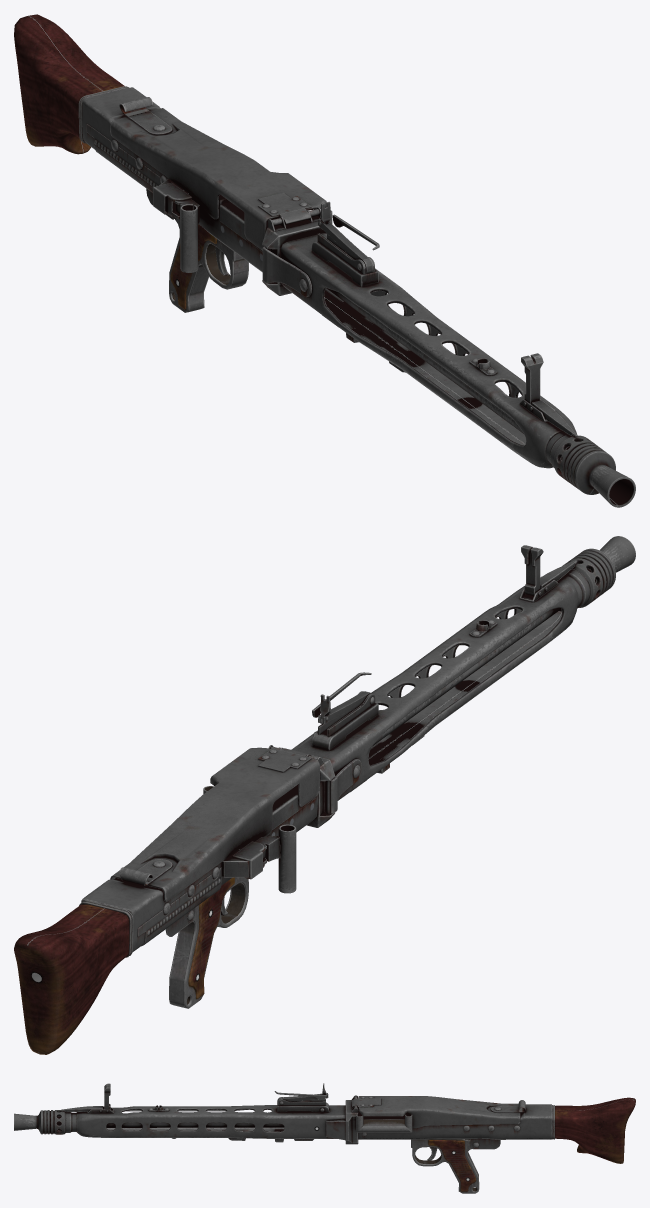
3 views of the same model, one above another, from view 1: azimuth 30°, elevation 25°; view 2: azimuth 150°, elevation 25°; view 3: azimuth 270°, elevation 25° (orthographic). The views are drawn at different scales.
Parts seen in each view (by area): view 1: pCube9, pPlane10, pCube1, pCube2, pCylinder1, pCube6, pPlane20, pCylinder2, pCube40, pCylinder20, pPipe2, pCylinder36 (+6 smaller); view 2: pCube9, pPlane10, pCube1, pCube2, pCube6, pCylinder1, pCube41, pPlane20, pCylinder2, pPipe2, pCube12, pCube26 (+6 smaller); view 3: pCube9, pCube1, pPlane10, pCube2, pCube41, pCylinder1, pCube6, pCube40, pPipe15, pCylinder2, pCube26, pCube5 (+7 smaller).
Boxes of the visible parts, box(x1,y1,x2,y2) form: pCube9: box(281, 233, 576, 468); pPlane10: box(110, 108, 326, 250); pCube1: box(14, 14, 124, 154); pCube2: box(82, 87, 262, 272); pCylinder1: box(553, 435, 635, 507); pCube6: box(169, 218, 248, 312); pPlane20: box(86, 124, 161, 192); pCylinder2: box(326, 288, 569, 460); pCube40: box(262, 219, 325, 295); pCylinder20: box(262, 246, 312, 297); pPipe2: box(180, 204, 197, 272); pCylinder36: box(258, 192, 311, 224); pCube9: box(291, 578, 578, 800); pPlane10: box(110, 747, 319, 901); pCube1: box(14, 904, 129, 1054); pCube2: box(81, 795, 317, 952); pCube6: box(169, 877, 248, 1008); pCylinder1: box(562, 536, 635, 607); pCube41: box(188, 877, 234, 998); pPlane20: box(137, 867, 221, 946); pCylinder2: box(372, 569, 595, 746); pPipe2: box(278, 824, 296, 893); pCube12: box(222, 836, 280, 877); pCube26: box(311, 703, 378, 750); pCube9: box(76, 1105, 345, 1138); pCube1: box(555, 1097, 635, 1163); pPlane10: box(358, 1096, 520, 1128); pCube2: box(358, 1104, 552, 1139); pCube41: box(428, 1140, 475, 1191); pCylinder1: box(14, 1110, 65, 1134); pCube6: box(411, 1139, 479, 1193); pCube40: box(326, 1100, 358, 1144); pPipe15: box(356, 1114, 412, 1132); pCylinder2: box(56, 1116, 284, 1127); pCube26: box(277, 1102, 329, 1112); pCube5: box(465, 1138, 505, 1149).
Size of the model in its own units: 0.1891 by 0.3811 by 2.
1 material, 1 textured.
